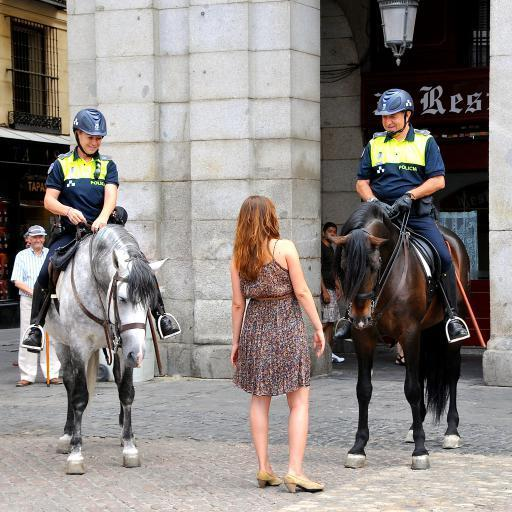horse: (326, 200, 470, 470), (35, 224, 171, 478)
